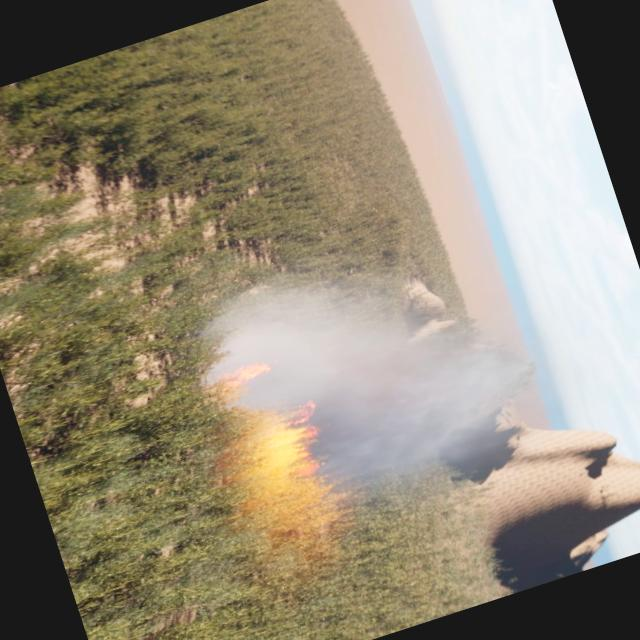fire: (223, 394, 370, 568), (210, 356, 278, 409)
smoke: (184, 212, 559, 530)
